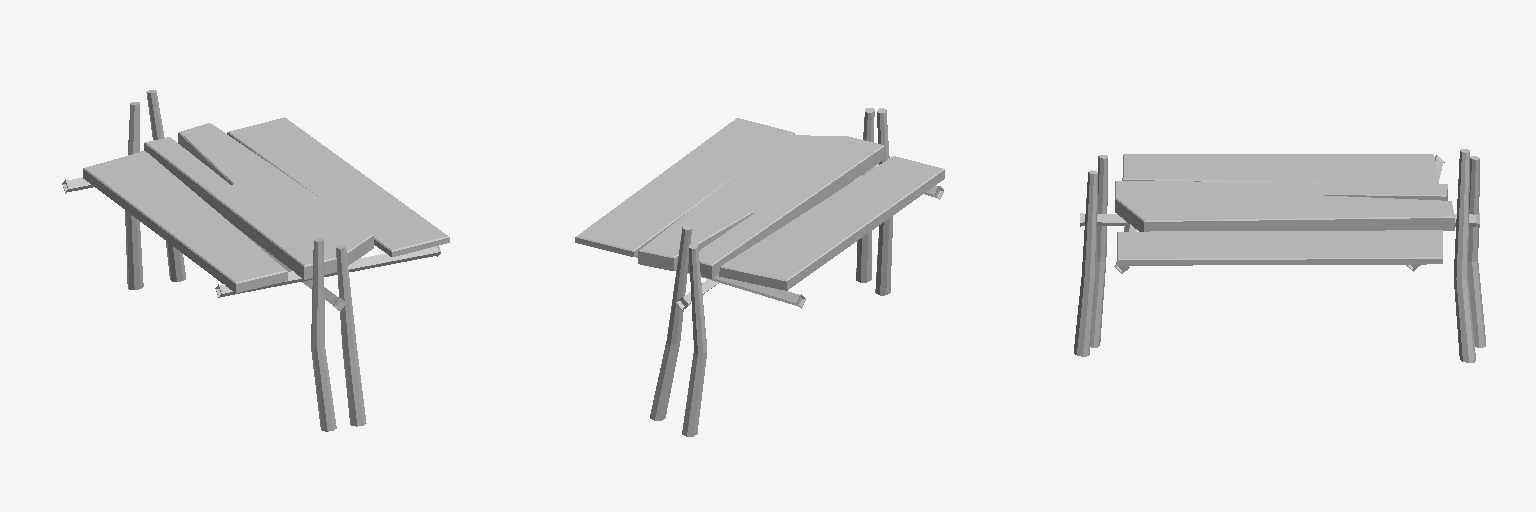
The model's file is BridgeMid.obj.
The picture shows the model from 3 angles: view 1: azimuth 30°, elevation 25°; view 2: azimuth 150°, elevation 25°; view 3: azimuth 270°, elevation 25°; orthographic projection.
Parts seen in each view (by area): view 1: Object004; view 2: Object004; view 3: Object004.
Boxes of the visible parts, <box> form: Object004: <box>62,90,449,431</box>; Object004: <box>575,108,944,436</box>; Object004: <box>1074,149,1485,362</box>.
Bounding box in the file's own units: 2 × 1.7 × 3.18.